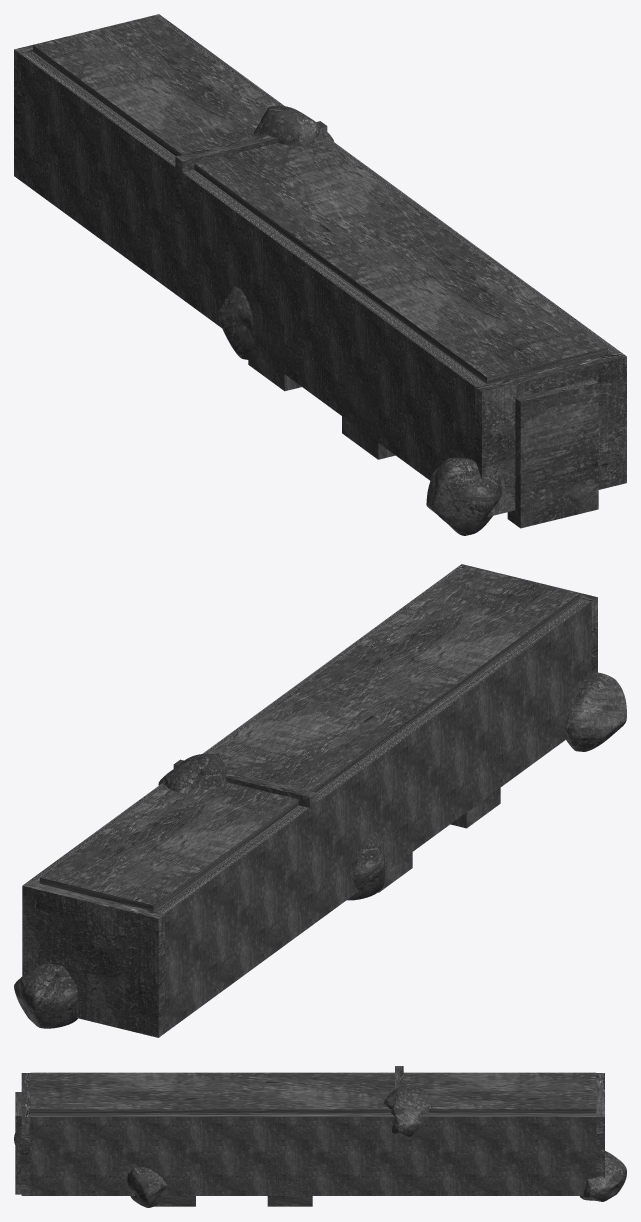
The model's file is Tutorial 1.fbx.
3 views of the same model, one above another, from view 1: azimuth 30°, elevation 25°; view 2: azimuth 150°, elevation 25°; view 3: azimuth 270°, elevation 25° (orthographic). The views are drawn at different scales.
Parts seen in each view (by area): view 1: Cube.001, Cube.014, Cube.008, Cube.004, Cube.013, Cube.002, Cube.007, Cube.006, Cube.005, Cube.011, Cube.009, Cube.003; view 2: Cube.001, Cube.014, Cube.003, Cube.013, Cube.010, Cube.002, Cube.011, Cube.009, Cube.005, Cube.007, Cube.004; view 3: Cube.002, Cube.014, Cube.011, Cube.006, Cube.010, Cube.004, Cube.012, Cube.003, Cube.007, Cube.008, Cube.005.
Boxes of the visible parts, x1=… form: Cube.001: x1=21, y1=51, x2=486, y2=480; Cube.014: x1=33, y1=16, x2=607, y2=383; Cube.008: x1=507, y1=379, x2=598, y2=528; Cube.004: x1=475, y1=351, x2=626, y2=516; Cube.013: x1=426, y1=457, x2=502, y2=535; Cube.002: x1=161, y1=19, x2=619, y2=354; Cube.007: x1=342, y1=369, x2=395, y2=459; Cube.006: x1=248, y1=300, x2=301, y2=391; Cube.005: x1=175, y1=121, x2=327, y2=249; Cube.011: x1=253, y1=105, x2=333, y2=145; Cube.009: x1=218, y1=286, x2=254, y2=359; Cube.003: x1=14, y1=14, x2=165, y2=180; Cube.001: x1=154, y1=599, x2=591, y2=1032; Cube.014: x1=40, y1=565, x2=579, y2=911; Cube.003: x1=22, y1=881, x2=164, y2=1037; Cube.013: x1=565, y1=672, x2=626, y2=751; Cube.010: x1=14, y1=964, x2=77, y2=1028; Cube.002: x1=29, y1=569, x2=459, y2=883; Cube.011: x1=158, y1=753, x2=226, y2=792; Cube.009: x1=347, y1=832, x2=385, y2=900; Cube.005: x1=173, y1=759, x2=316, y2=807; Cube.007: x1=450, y1=744, x2=500, y2=828; Cube.004: x1=455, y1=564, x2=597, y2=672; Cube.002: x1=30, y1=1113, x2=596, y2=1195; Cube.014: x1=30, y1=1072, x2=596, y2=1113; Cube.011: x1=384, y1=1085, x2=434, y2=1136; Cube.006: x1=267, y1=1166, x2=312, y2=1206; Cube.010: x1=580, y1=1151, x2=626, y2=1201; Cube.004: x1=21, y1=1073, x2=30, y2=1195; Cube.012: x1=127, y1=1167, x2=167, y2=1207; Cube.003: x1=596, y1=1073, x2=604, y2=1177; Cube.007: x1=151, y1=1166, x2=195, y2=1206; Cube.008: x1=15, y1=1092, x2=21, y2=1194; Cube.005: x1=395, y1=1066, x2=403, y2=1165.
Bounding box in the file's own units: 337 × 281 × 1408.
